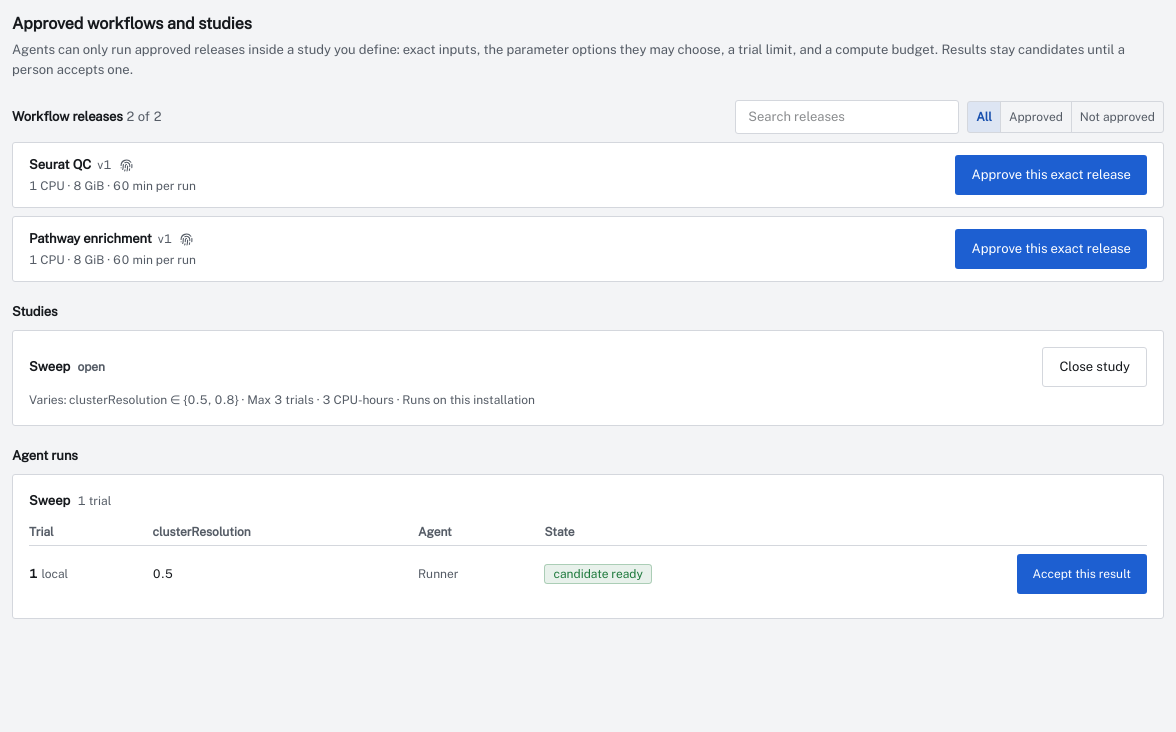
Test: AgentWorkflows › searches releases and keeps the exact digest out of sight until asked
The width and height of the screenshot is (1176, 732).
Expected: the text "Pathway enrichment" is shown, x1=29 y1=231 x2=152 y2=246
Click the button named "Exact release of Seurat QC" at [126, 165], box x1=118 y1=156 x2=135 y2=174
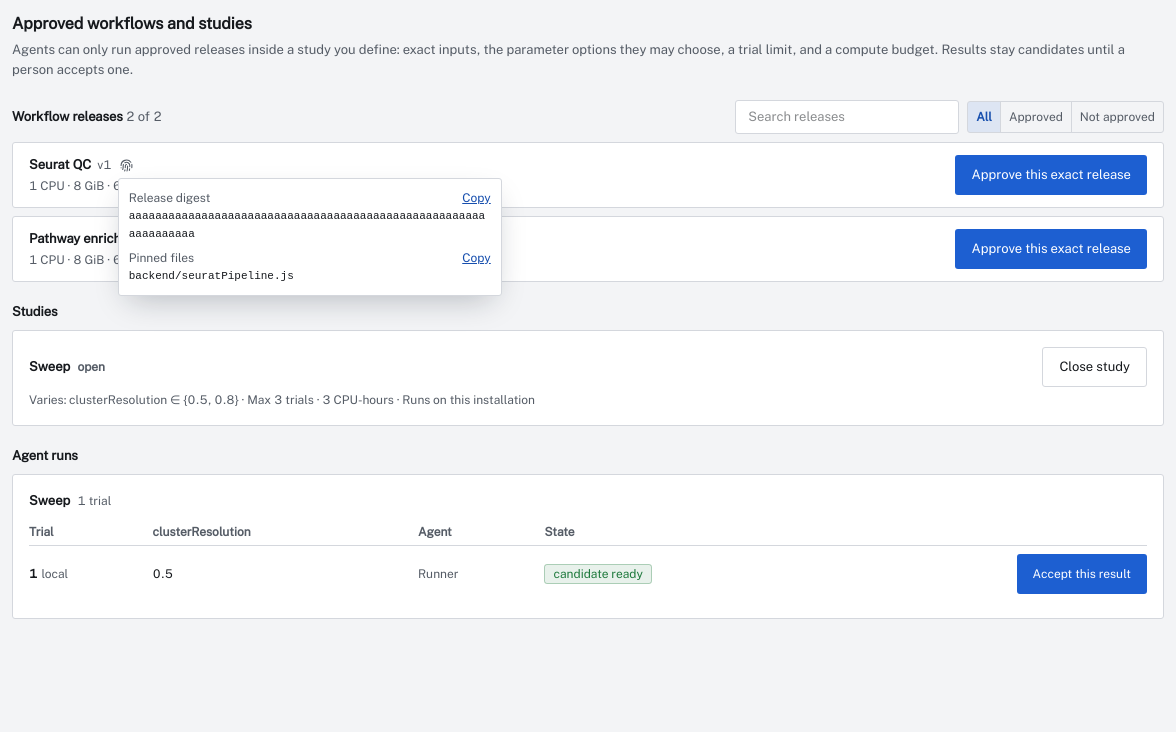
Type "pathway" into the search field labelled "Search releases" at [847, 117], box x1=735 y1=100 x2=959 y2=134
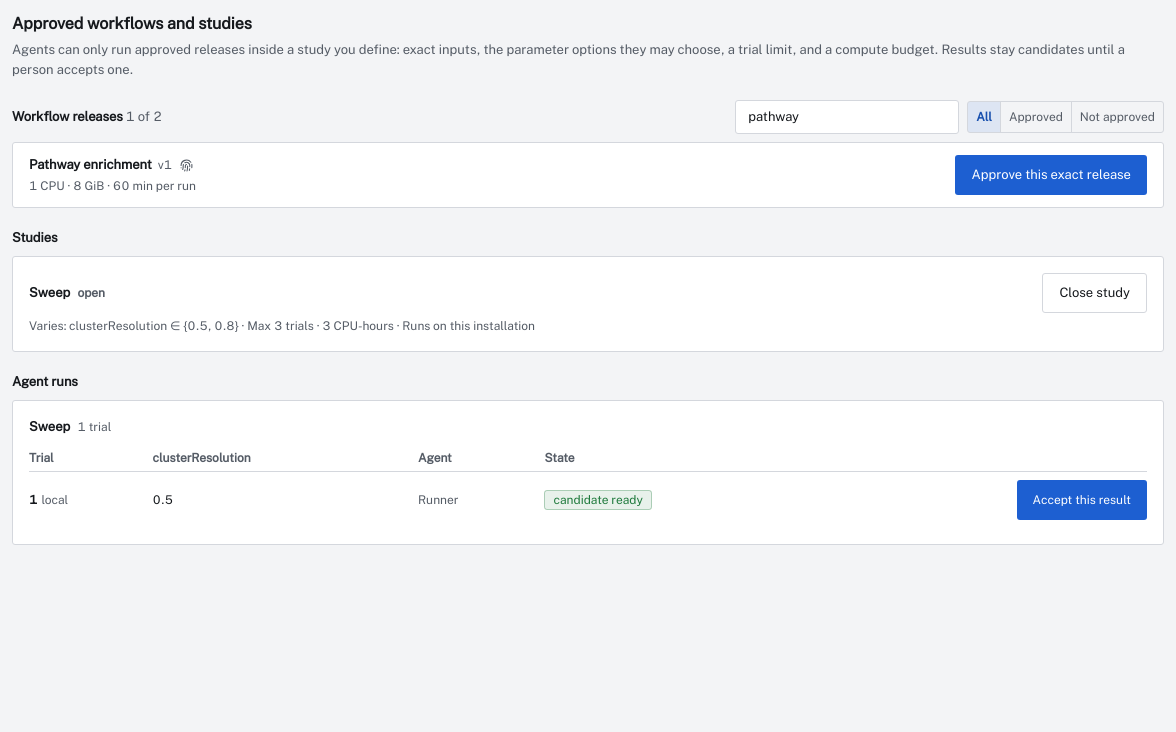
Expected: the text "Pathway enrichment" is shown, x1=29 y1=157 x2=152 y2=172
Expected: the text "Seurat QC" is gone
Clear the search field named "Search releases" at [847, 117], box x1=735 y1=100 x2=959 y2=134
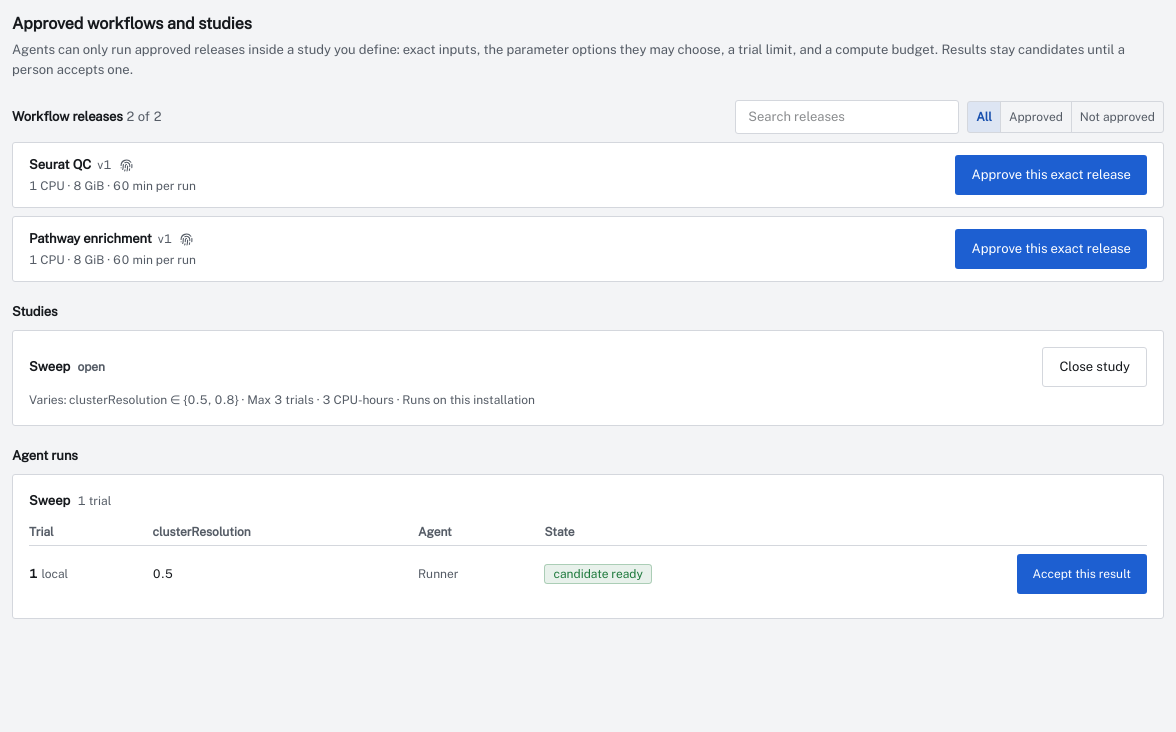
Click the button "Approved" at [1035, 117], box x1=1000 y1=102 x2=1071 y2=132
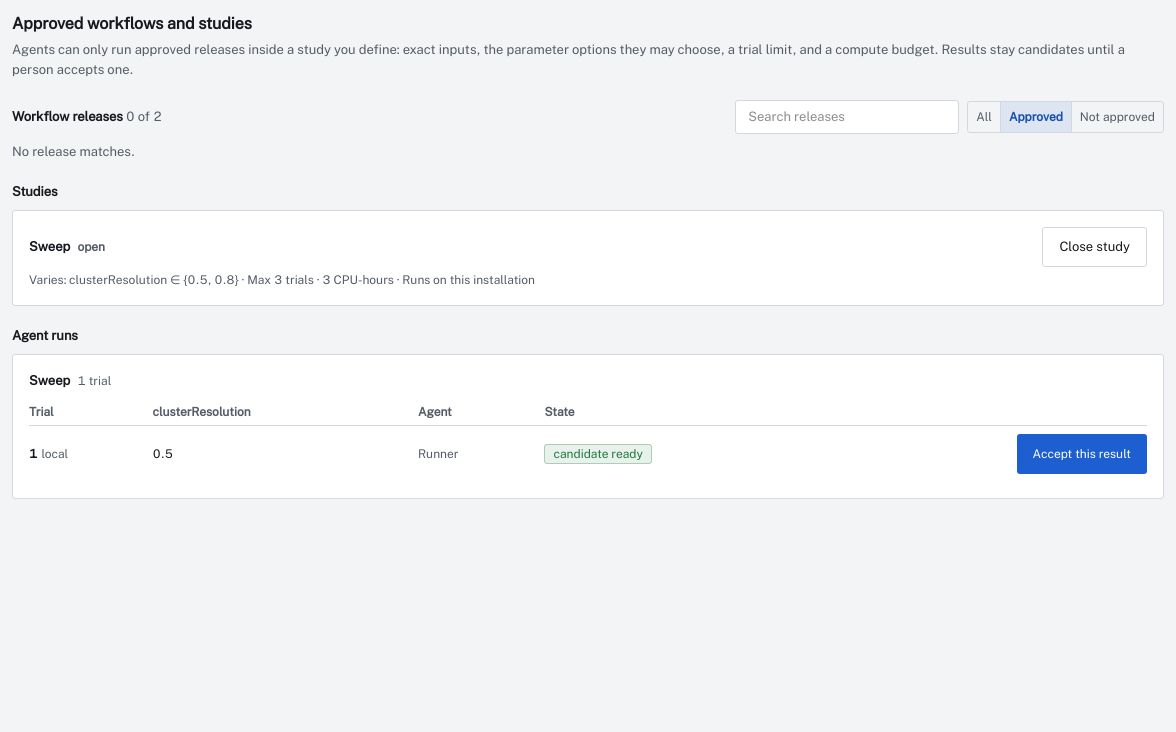
Expected: the text "No release matches." is shown, x1=12 y1=144 x2=135 y2=159
